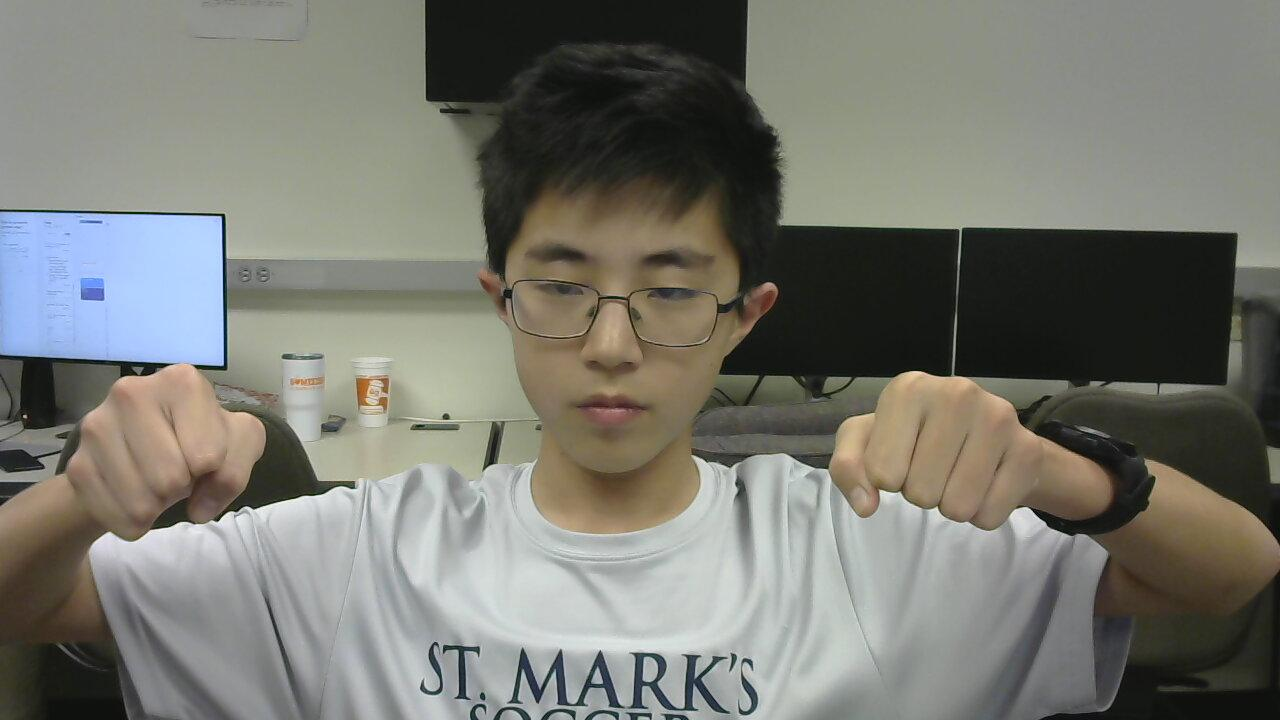fist: (793, 369, 1057, 539), (56, 349, 269, 553)
